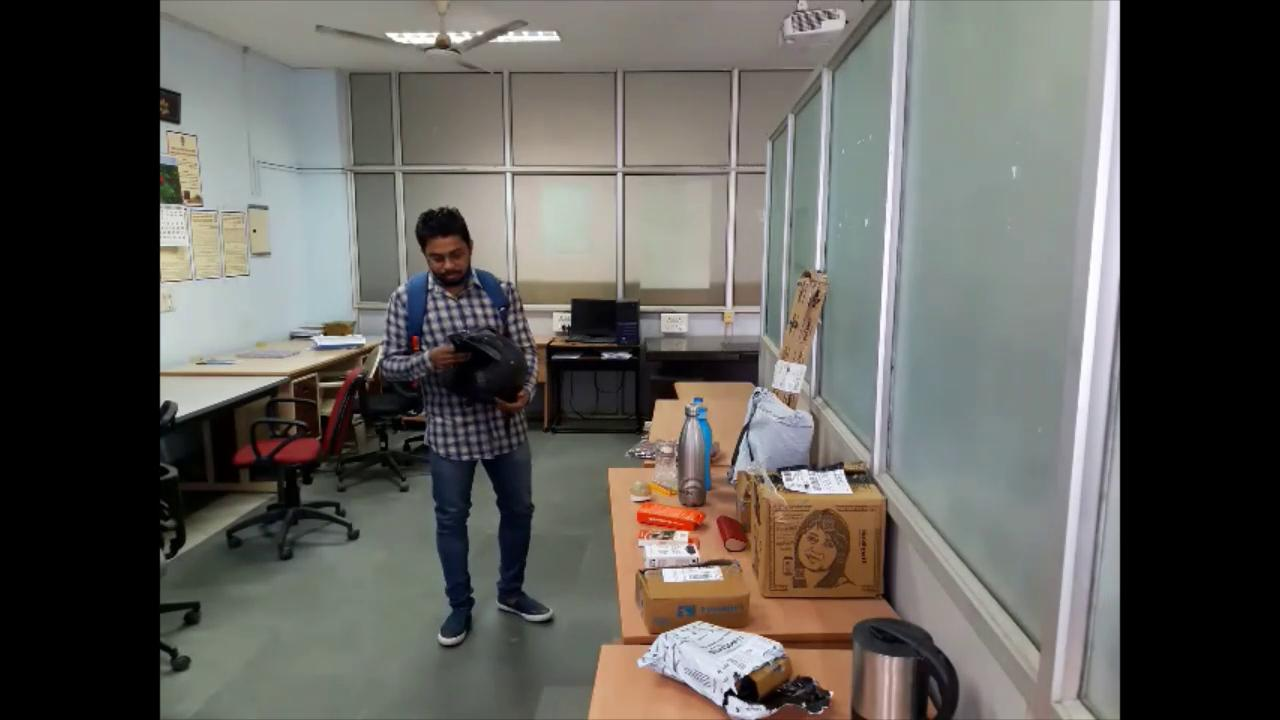Normal: (365, 200, 557, 665)
